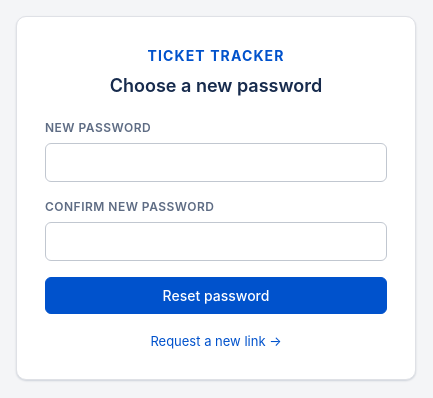
Test: ResetPasswordPage › on success shows the success banner and a Continue-to-login link
Type "brand new password" into the password field labelled "New password".
click(216, 162); type("brand new password")  # box [45,143,387,182]
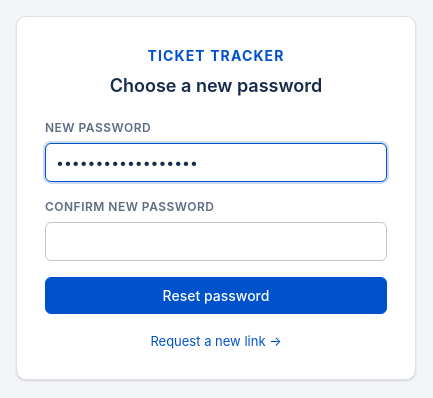
Type "brand new password" into the password field labelled "Confirm new password".
click(216, 241); type("brand new password")  # box [45,222,387,261]
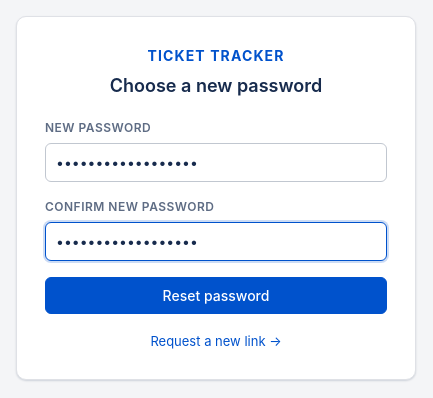
Click the button "Reset password".
click(216, 295)  # box [45,277,387,314]
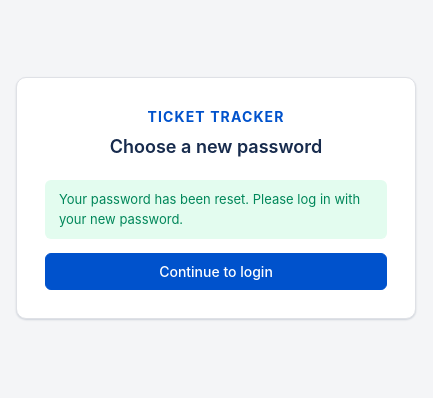
Now the text "Your password has been reset" is shown, box [59,191,360,226]
Now the button "Reset password" is gone
